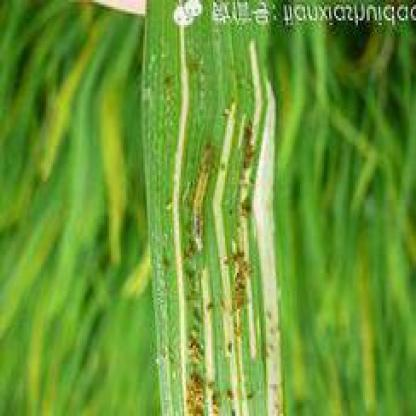leaf-folder: (178, 130, 229, 260)
